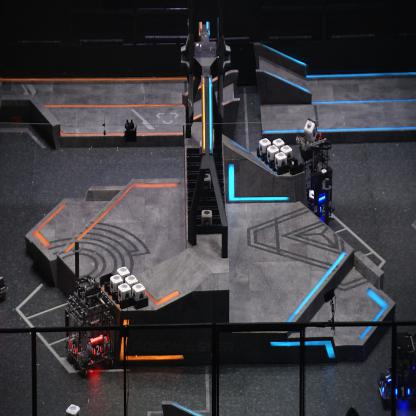car: (64, 277, 117, 377), (292, 136, 334, 221), (378, 330, 416, 410)
